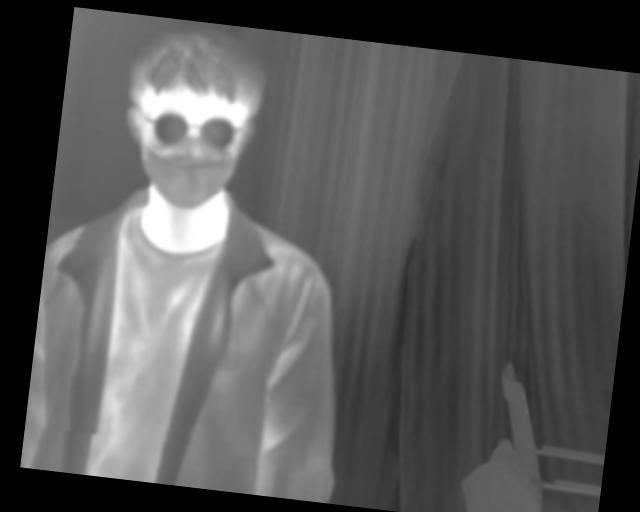face: (116, 24, 267, 215)
